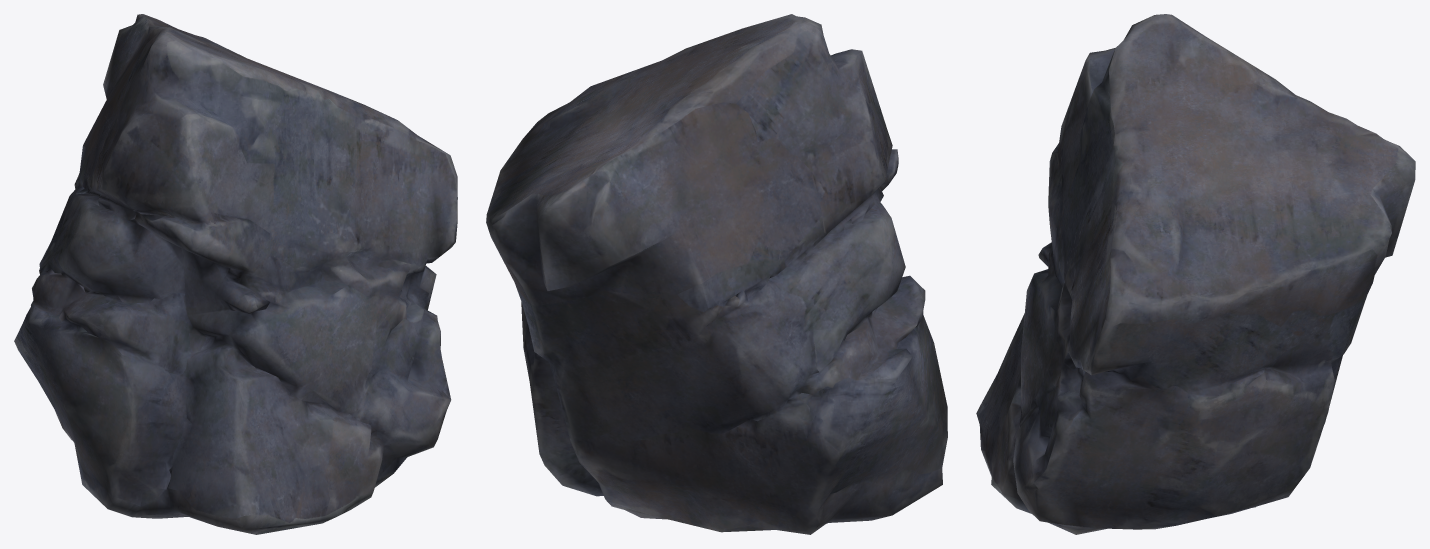
The model's file is Ht_shitou_02.FBX.
The picture shows the model from 3 angles, left to right: view 1: azimuth 30°, elevation 25°; view 2: azimuth 150°, elevation 25°; view 3: azimuth 270°, elevation 25°; orthographic projection. The views are drawn at different scales.
Visible parts, largest first — view 1: Ht_shitou_02; view 2: Ht_shitou_02; view 3: Ht_shitou_02.
Boxes of the visible parts, x1=… form: Ht_shitou_02: x1=14, y1=14, x2=457, y2=534; Ht_shitou_02: x1=486, y1=14, x2=947, y2=534; Ht_shitou_02: x1=976, y1=14, x2=1415, y2=534.
Size of the model in its own units: 504 by 518 by 577.
Materials: 1 (1 with a texture image).
